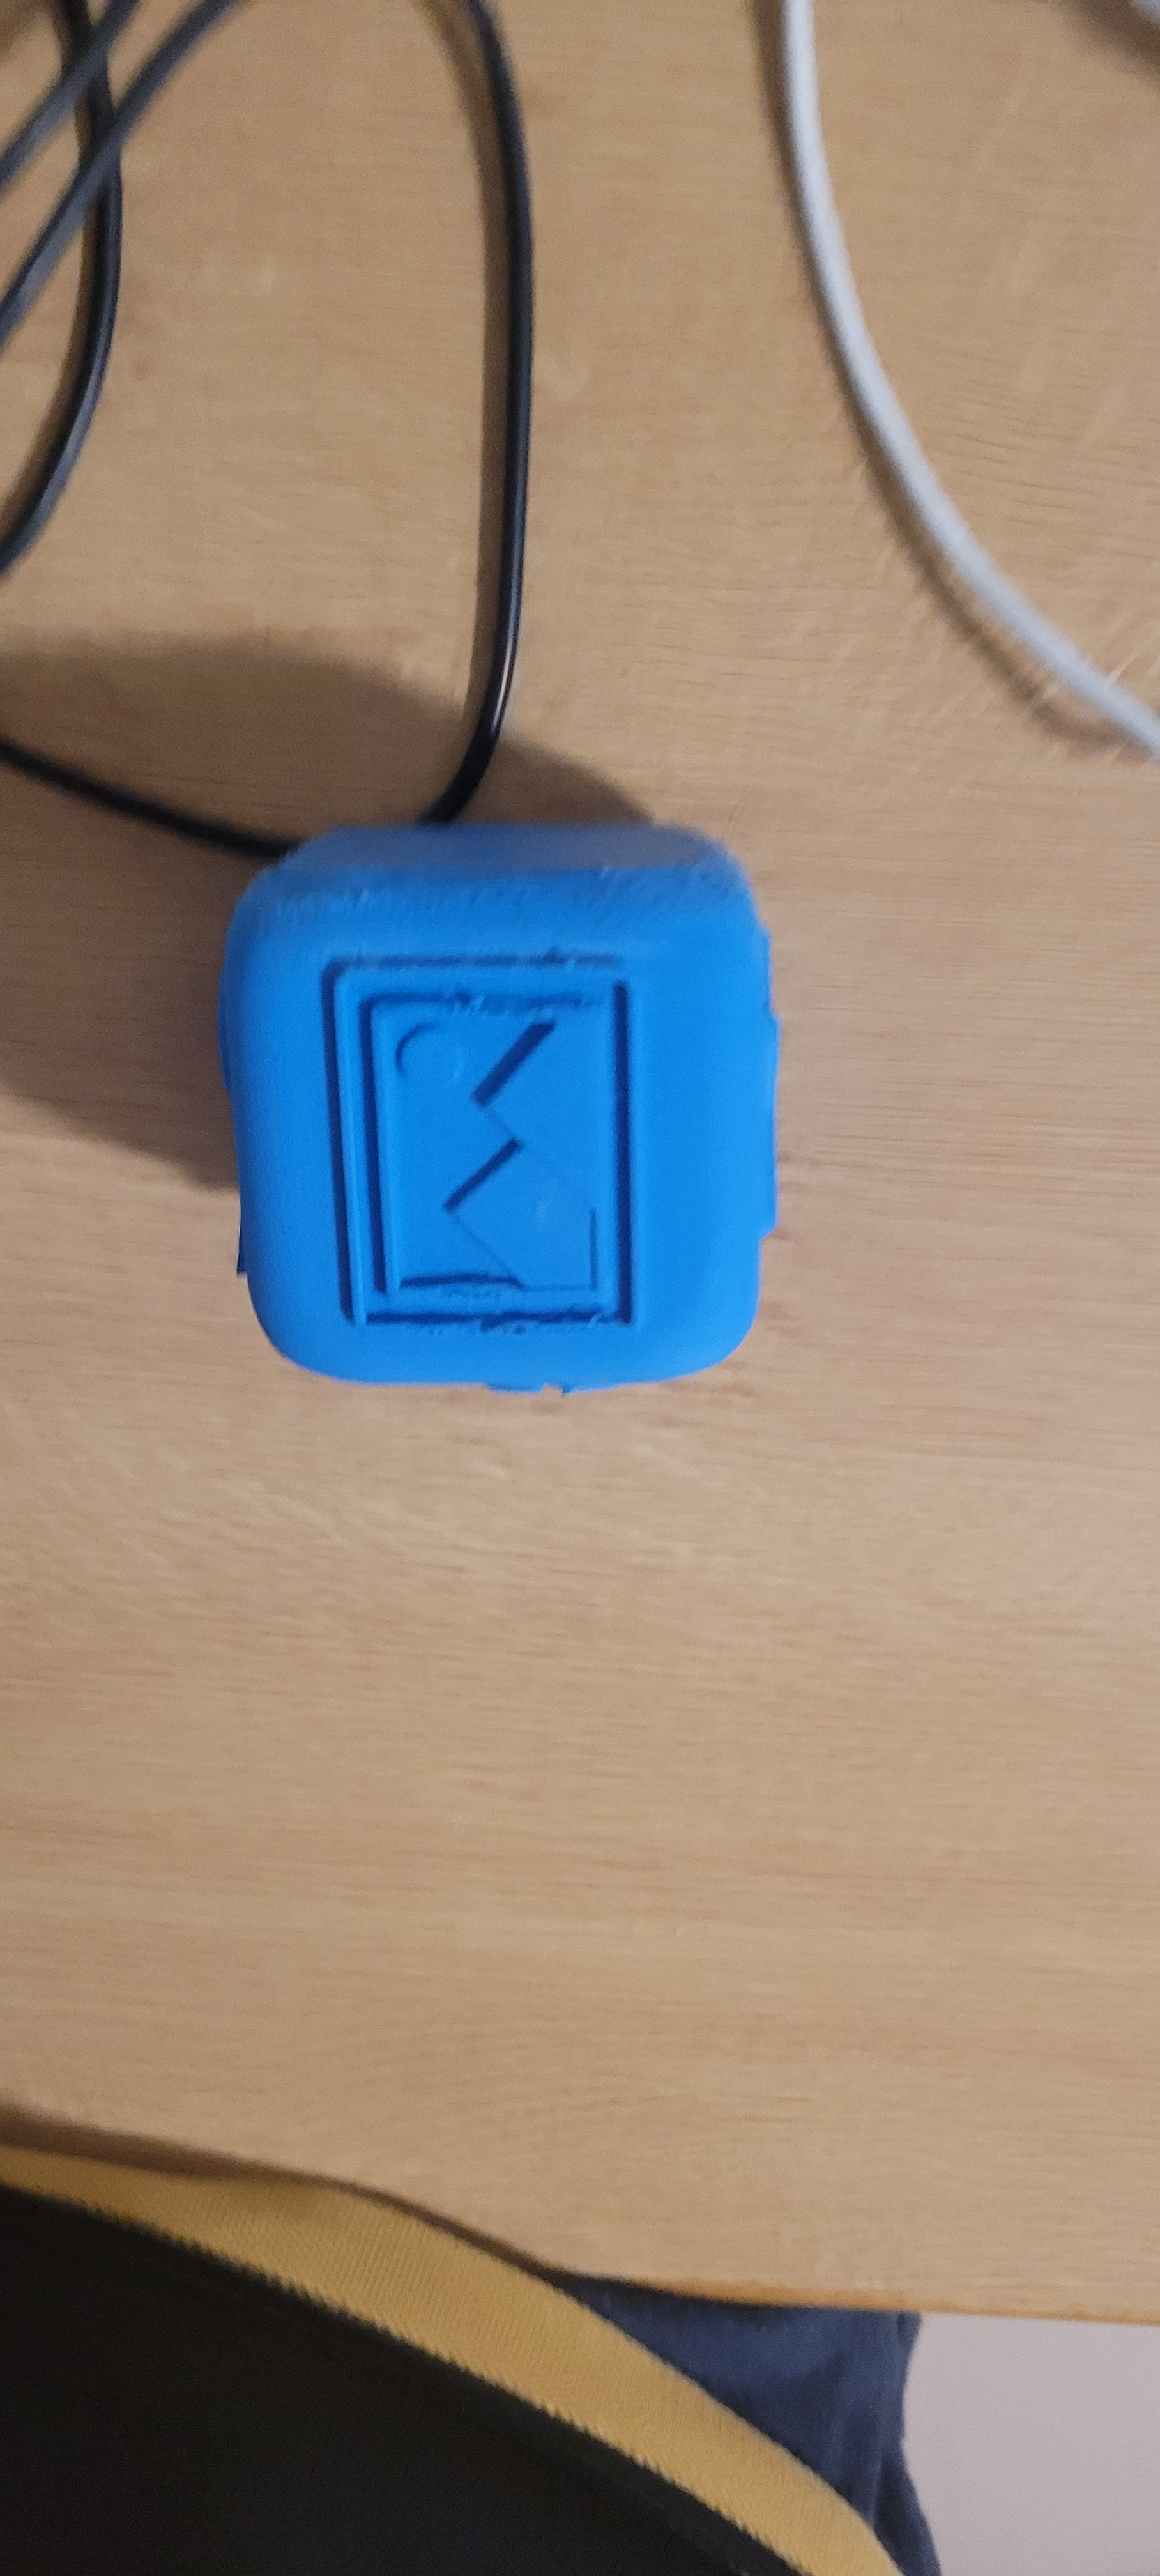Story: (304, 940, 679, 1380)
